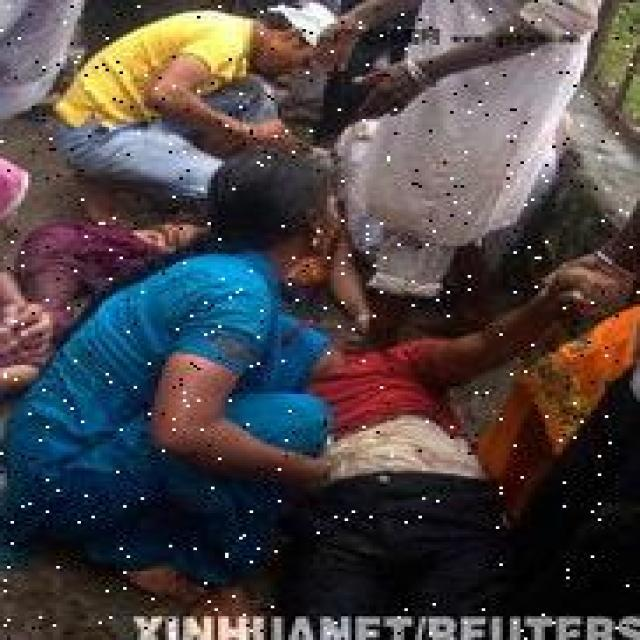fall: (306, 267, 605, 614)
